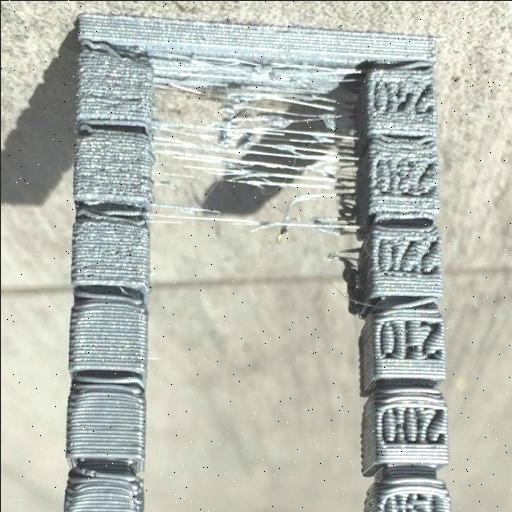stringing: (143, 52, 369, 243), (324, 246, 370, 318)
